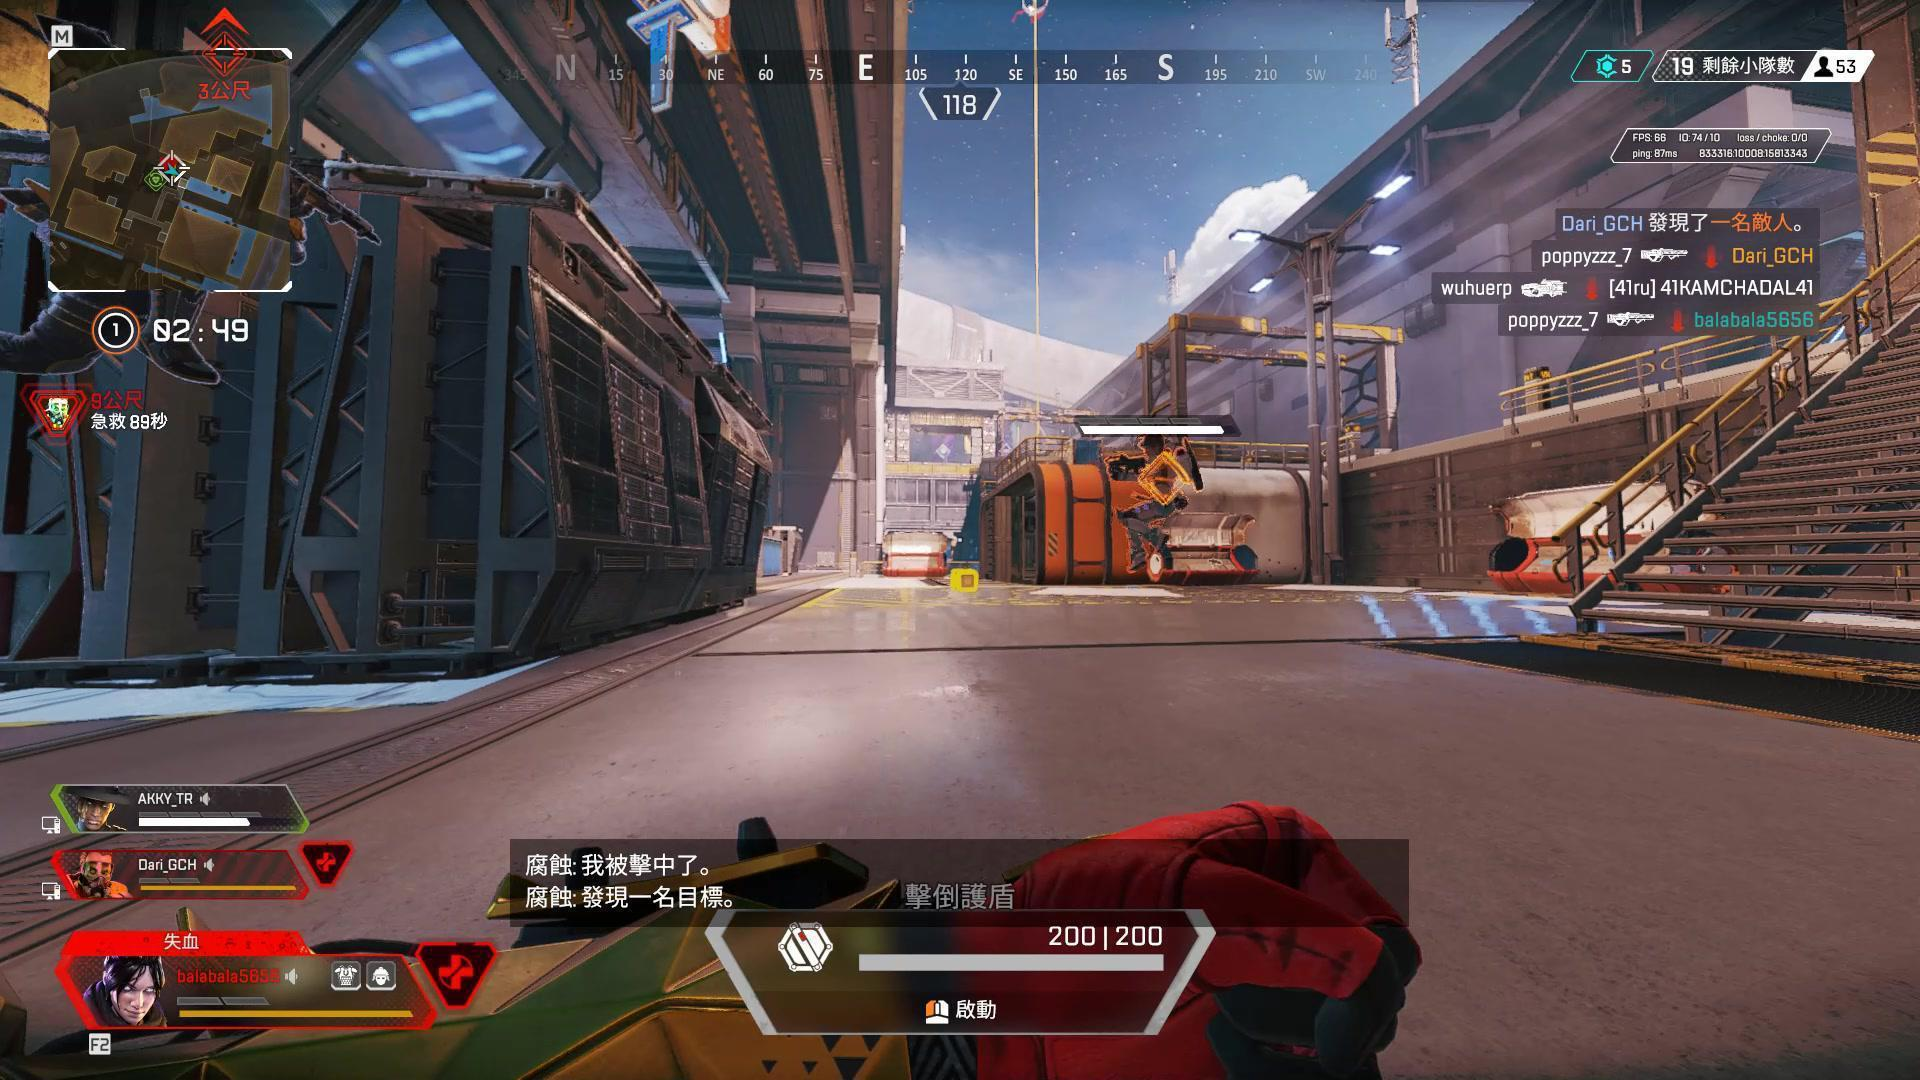avatar: (1104, 431, 1206, 574)
object: (1136, 450, 1191, 508)
